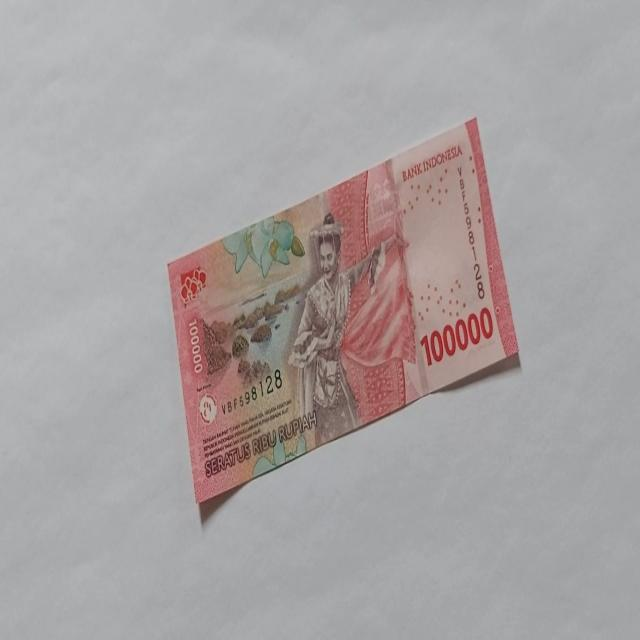seratus ribu rupiah: (166, 115, 520, 505), (287, 212, 386, 432)
